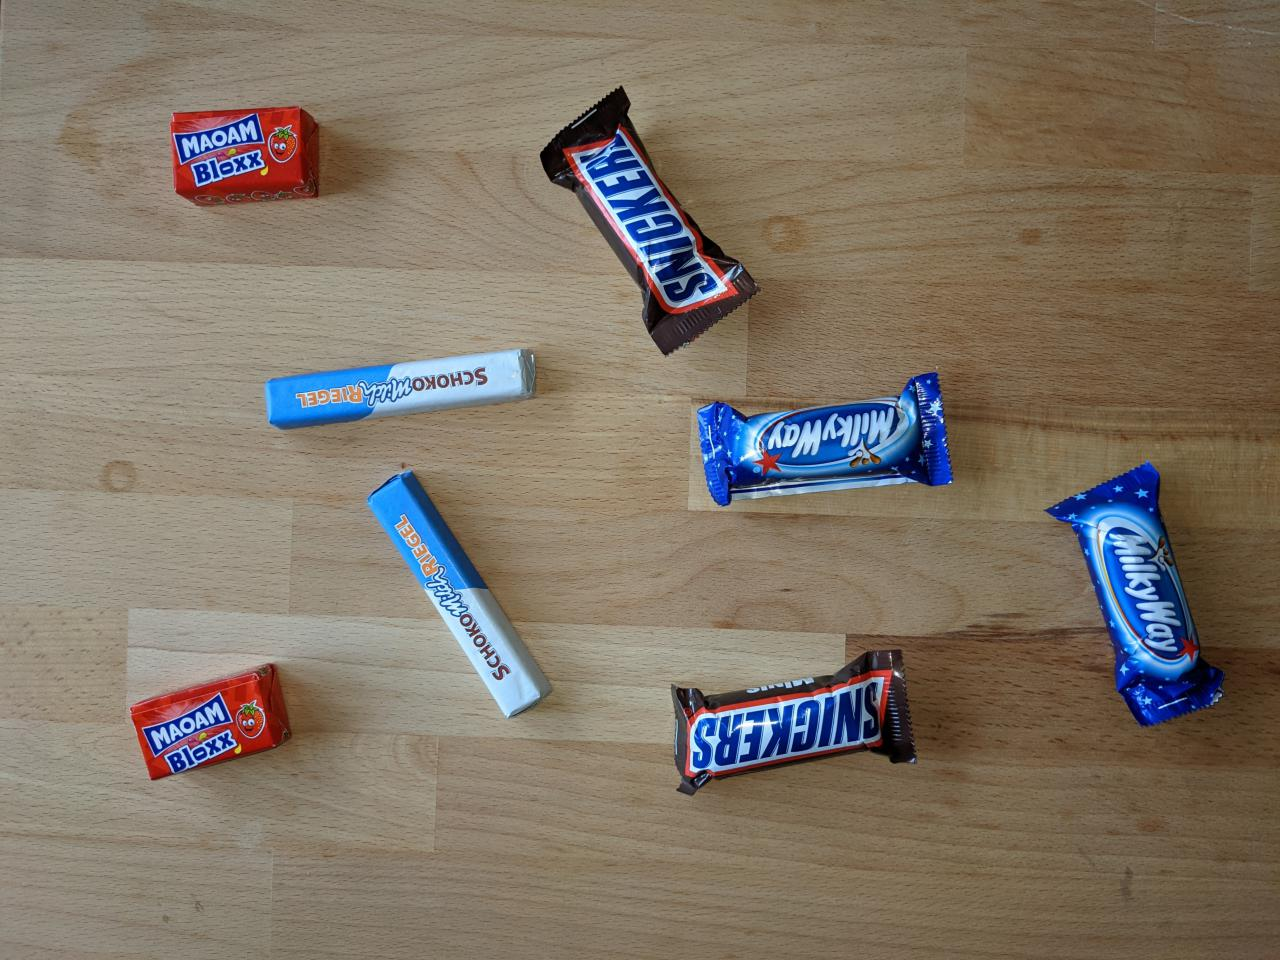MAOAM: (127, 658, 297, 788), (167, 100, 323, 212)
MilkyWay: (1041, 456, 1234, 732), (690, 365, 957, 511)
Schokoriegel: (363, 466, 556, 721), (259, 344, 543, 433)
Snickers: (535, 81, 766, 362), (664, 642, 923, 804)
